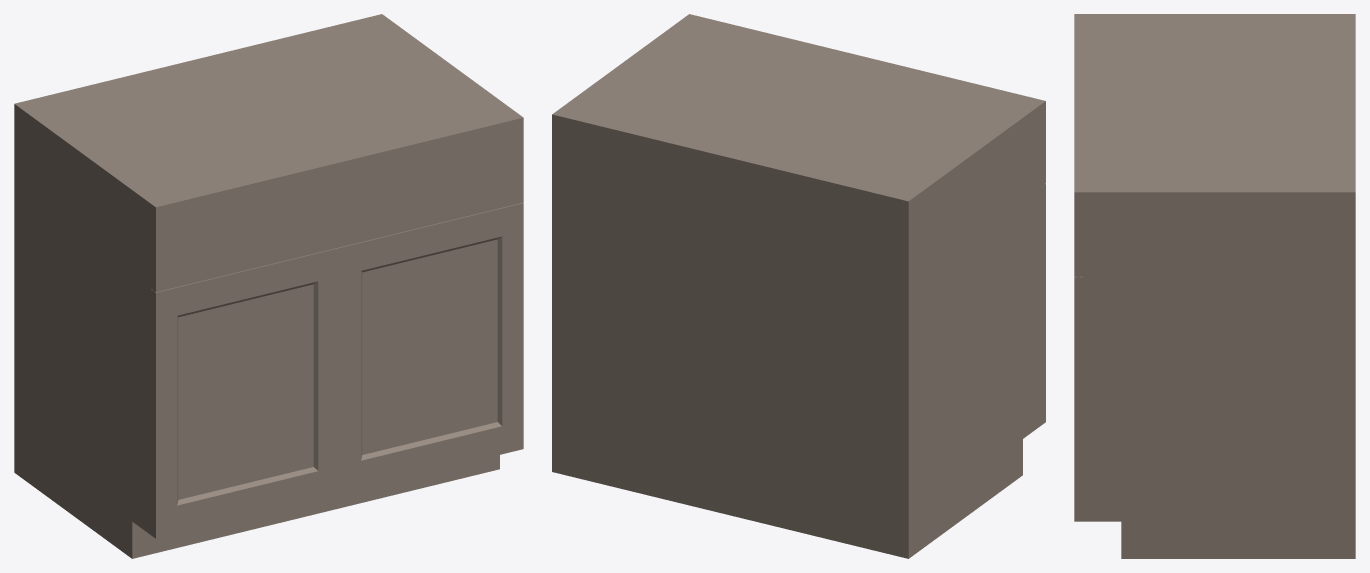
Rendered from Base-Cabinet-Double-Door-One-Drawer-24-Deep_std_001_W36in.glb.
3 renders of one model, left to right at view 1: azimuth 30°, elevation 25°; view 2: azimuth 150°, elevation 25°; view 3: azimuth 270°, elevation 25°, orthographic. The views are drawn at different scales.
Visible parts, largest first — view 1: Base-Cabinet-Double-Door-One-Drawer-24-Deep.std.001_W36in; view 2: Base-Cabinet-Double-Door-One-Drawer-24-Deep.std.001_W36in; view 3: Base-Cabinet-Double-Door-One-Drawer-24-Deep.std.001_W36in.
Part boxes in pixels (box(x1,y1,x2,y2)): Base-Cabinet-Double-Door-One-Drawer-24-Deep.std.001_W36in: box(14, 14, 523, 558); Base-Cabinet-Double-Door-One-Drawer-24-Deep.std.001_W36in: box(552, 14, 1045, 558); Base-Cabinet-Double-Door-One-Drawer-24-Deep.std.001_W36in: box(1074, 14, 1355, 558).
Size of the model in its own units: 0.9144 by 0.8763 by 0.6096.
